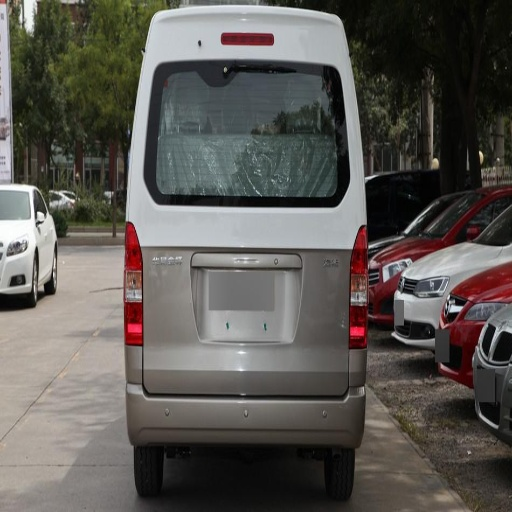back_bumper: (127, 350, 366, 445)
back_right_light: (350, 243, 383, 348)
tailgate: (195, 276, 312, 350)
trunk: (131, 209, 351, 395)
